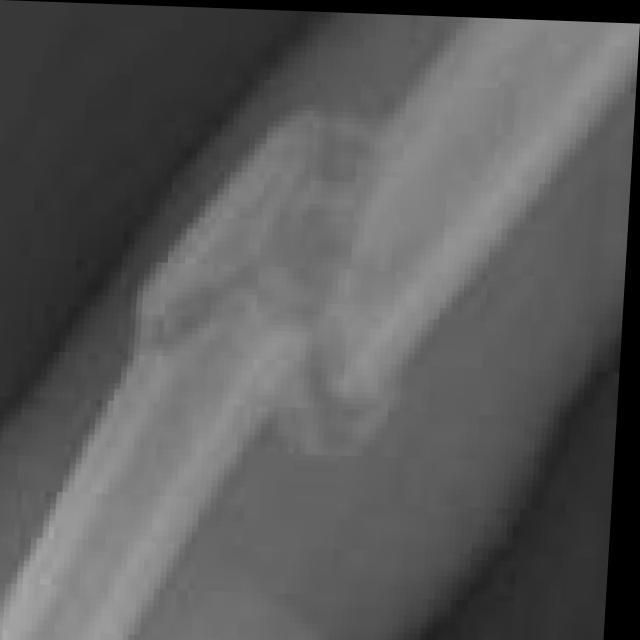fracture: (0, 11, 632, 640)
